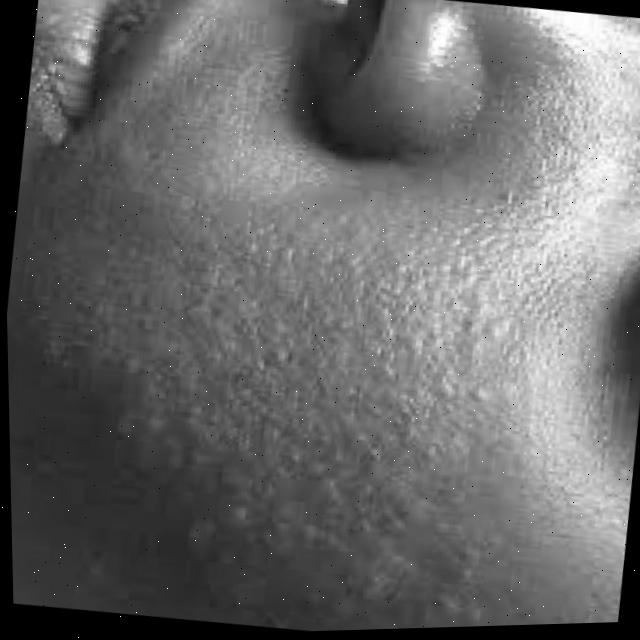Rosacea: (4, 186, 539, 640)
